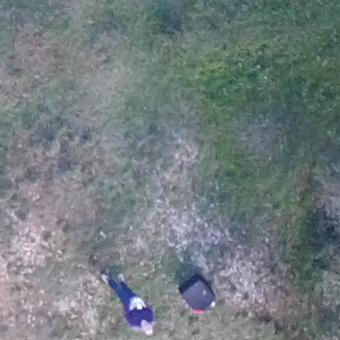human: (95, 270, 159, 337)
